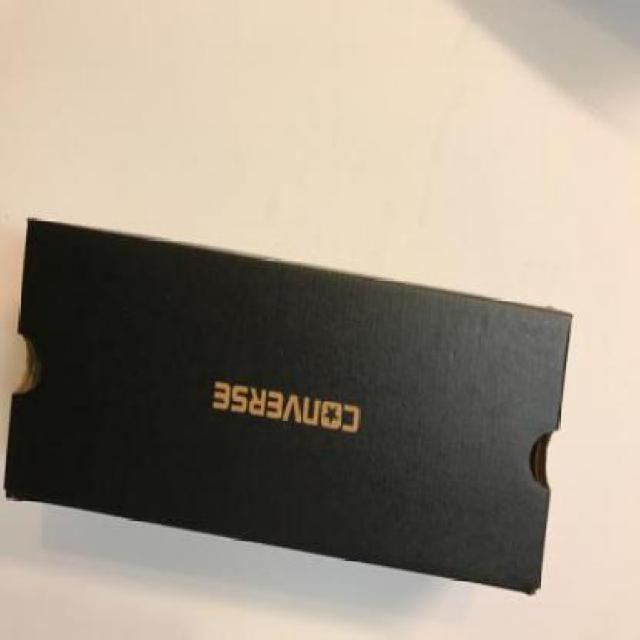CARDBOARD: (3, 218, 571, 597)
